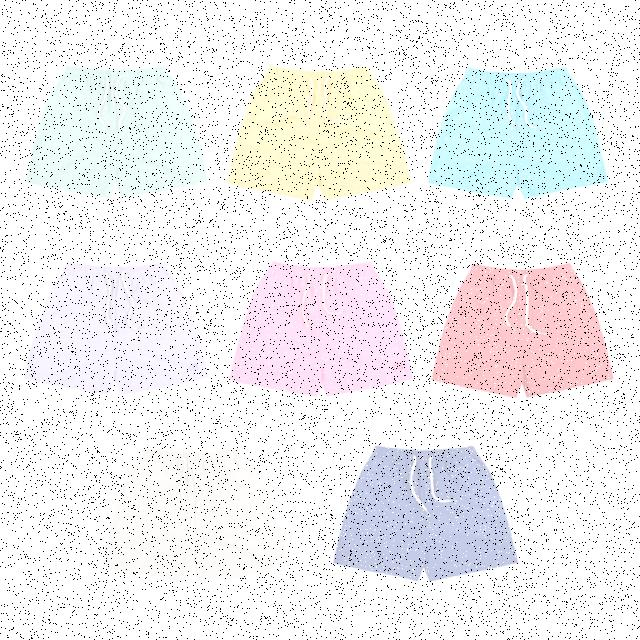Blouse_deep: (26, 253, 209, 404), (31, 63, 215, 202), (227, 250, 424, 376), (446, 73, 600, 186)
